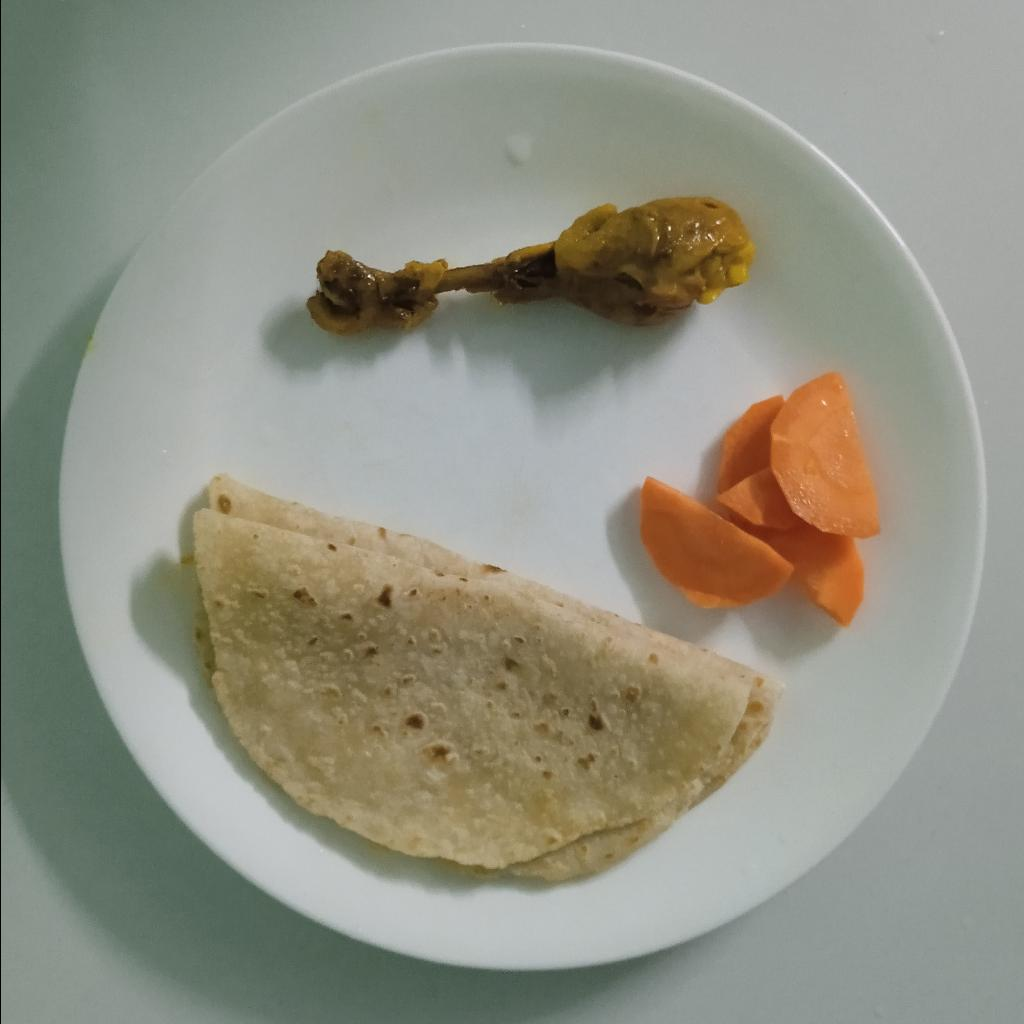carrot: (634, 370, 881, 633)
chicken: (305, 197, 761, 337)
ruti: (187, 472, 781, 884)
